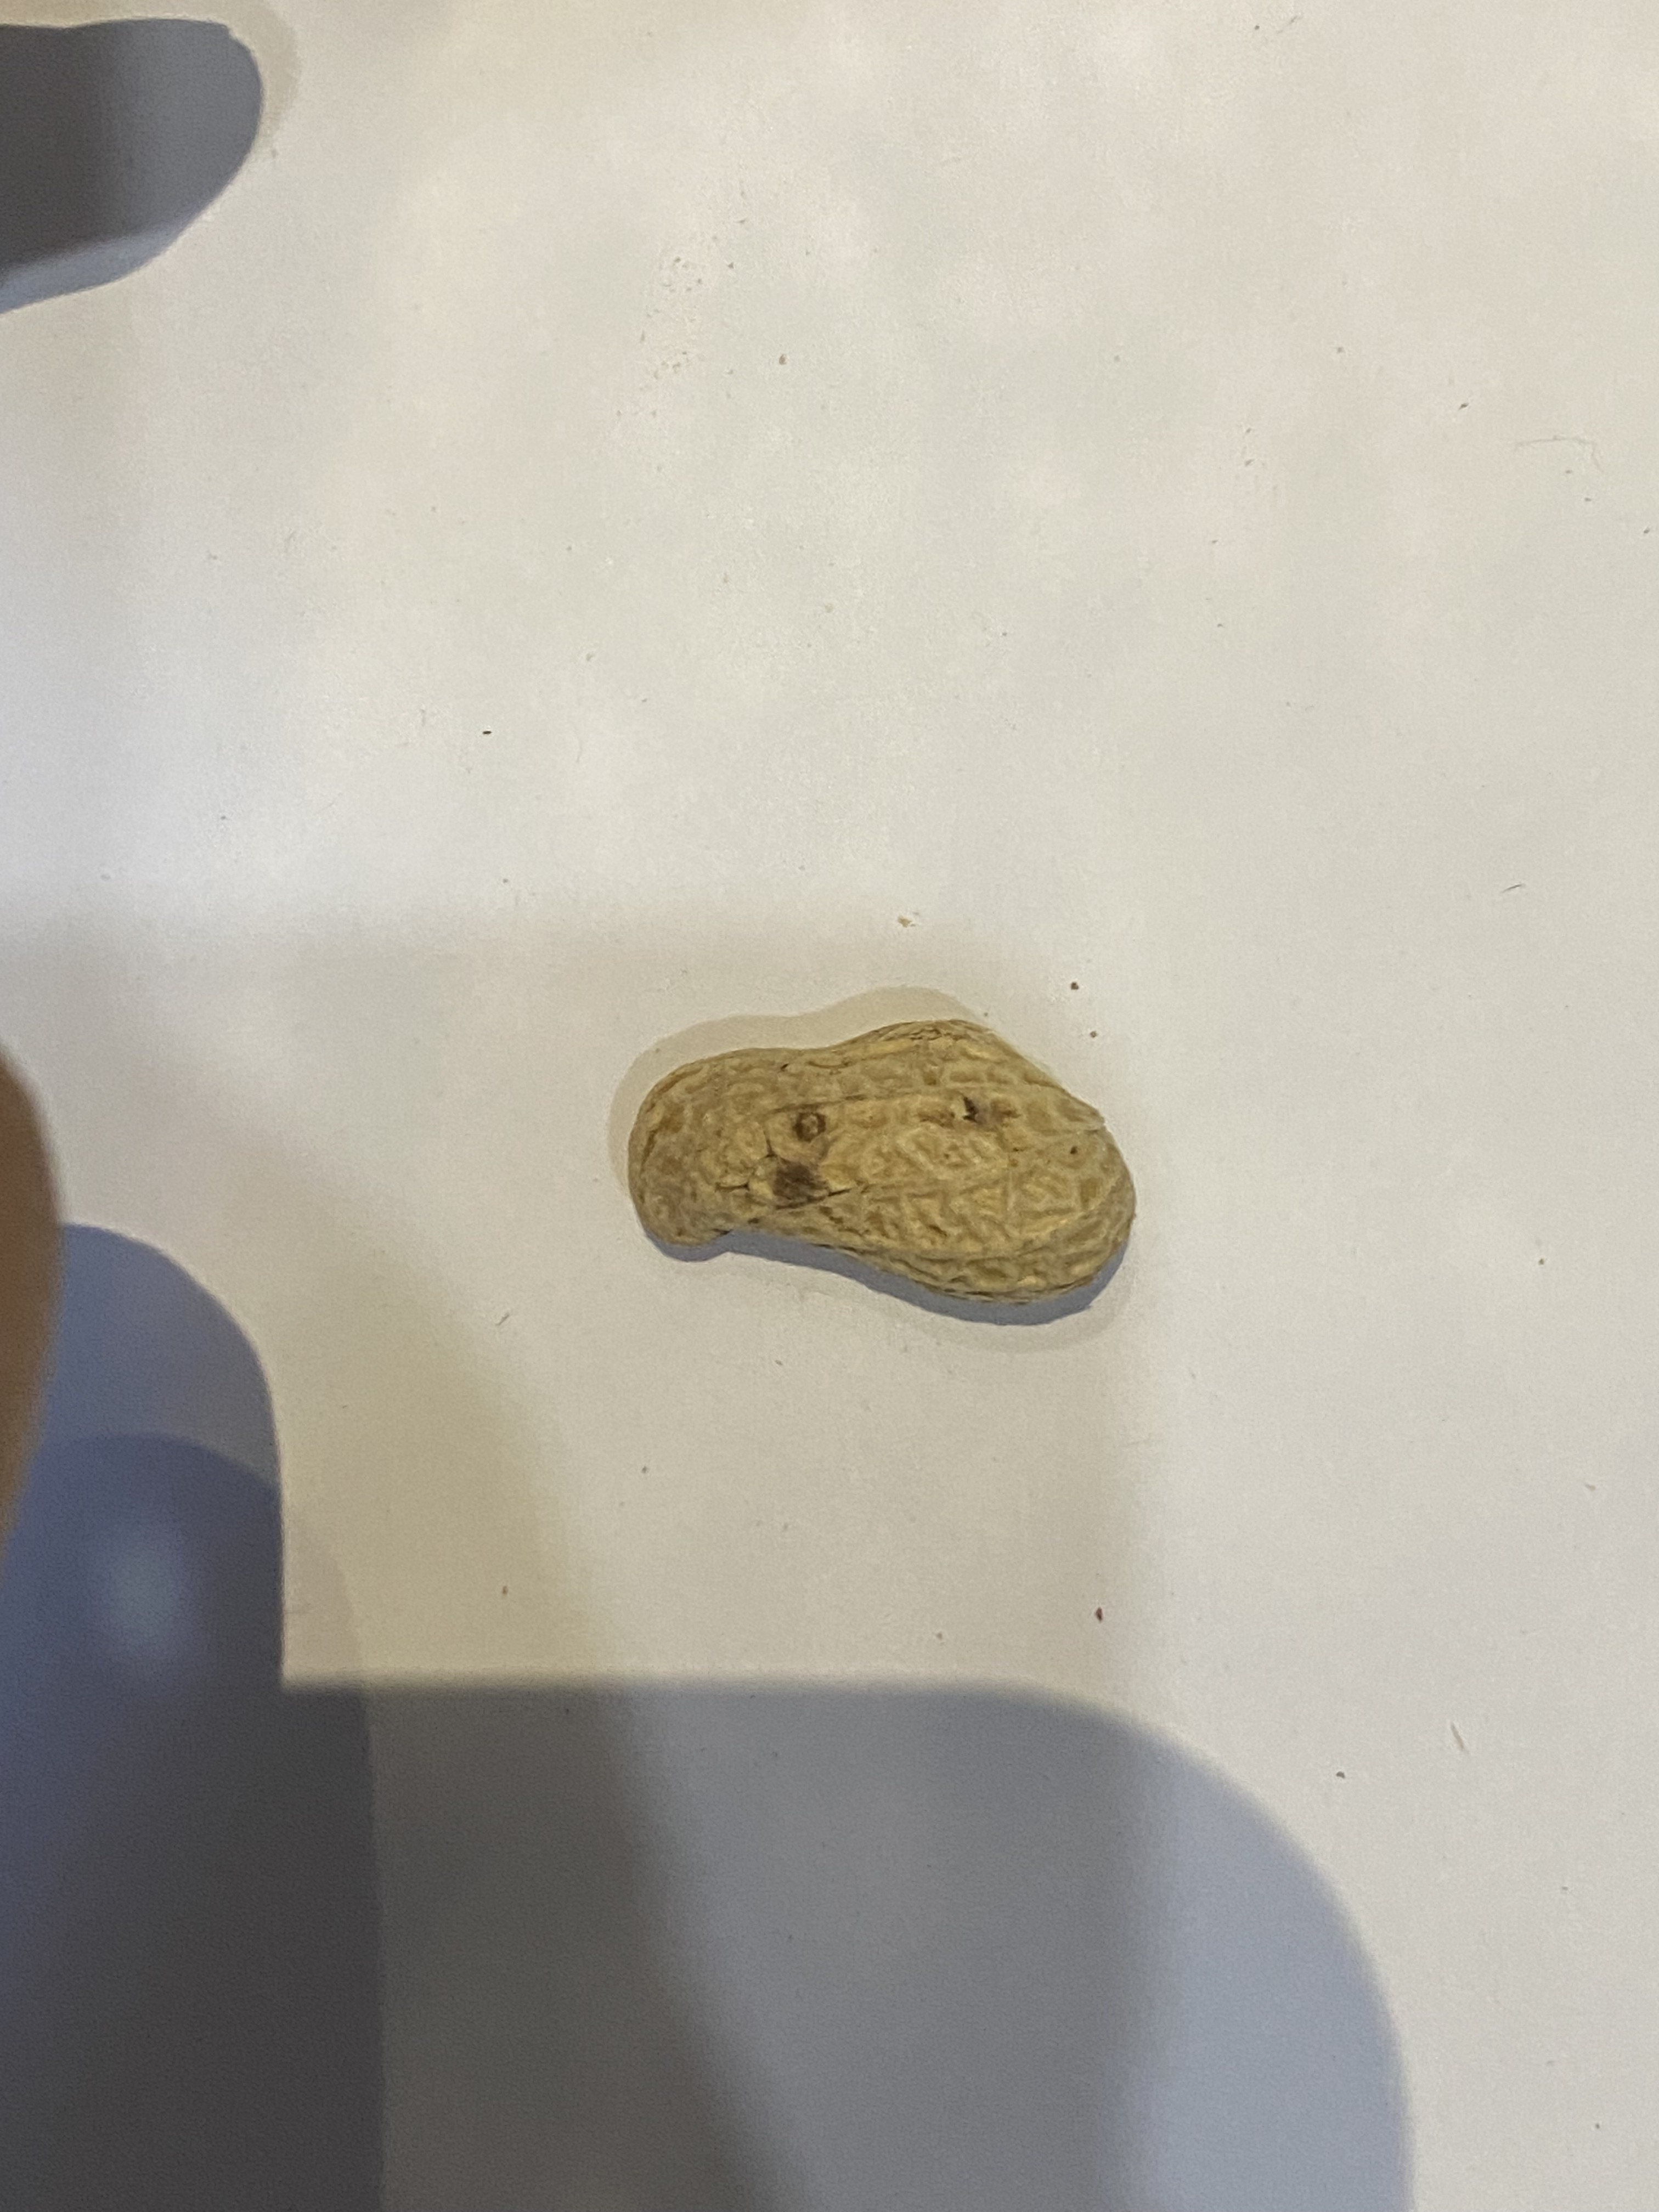kacang1: (619, 1014, 1143, 1322)
